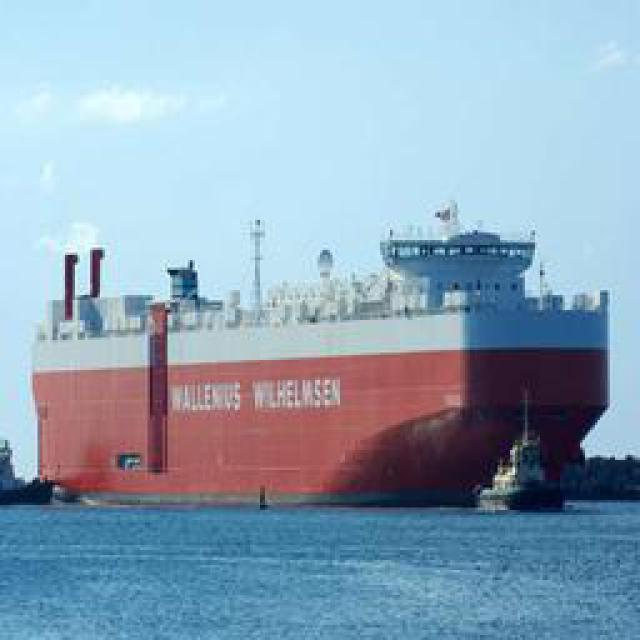Ship: (25, 177, 608, 510)
